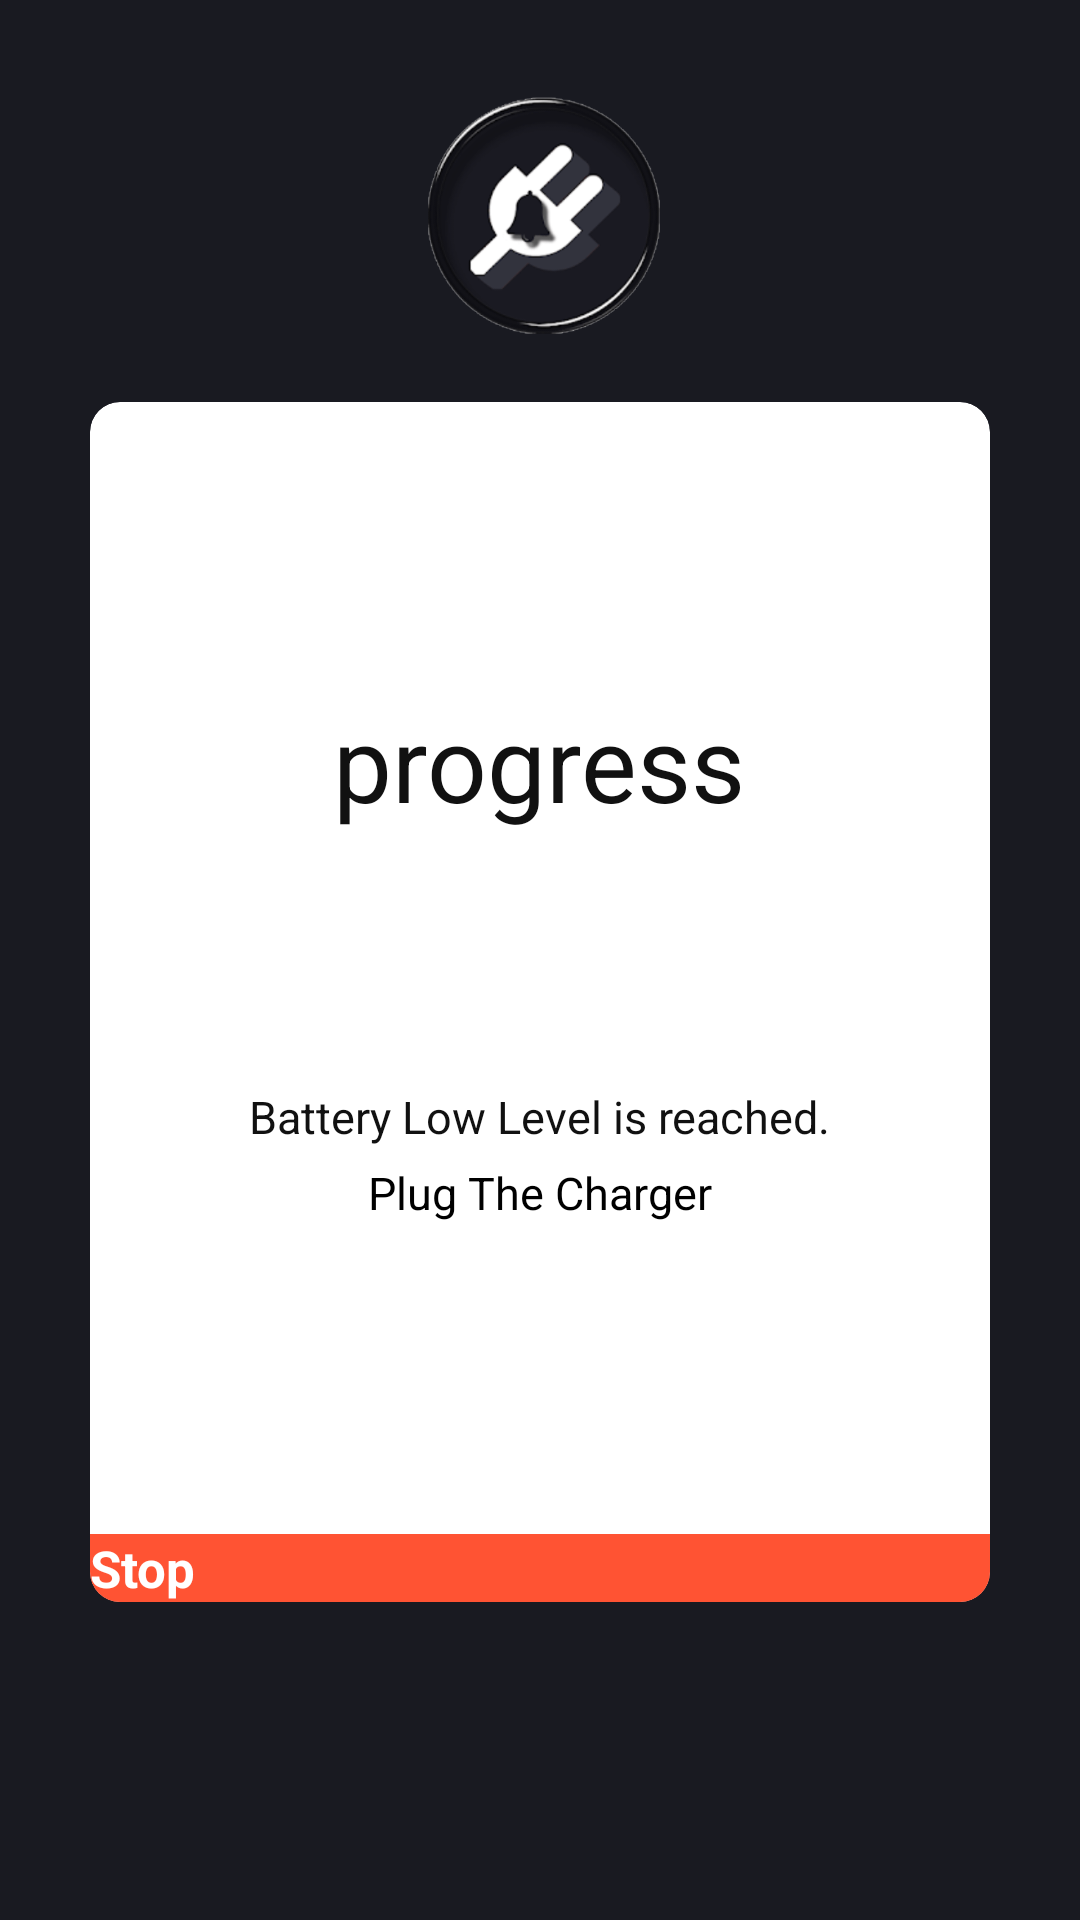

Icon click points for this 1080px x 1920px phone screenshot, format point (x, y):
fullchrgalrm: point (544, 215)
